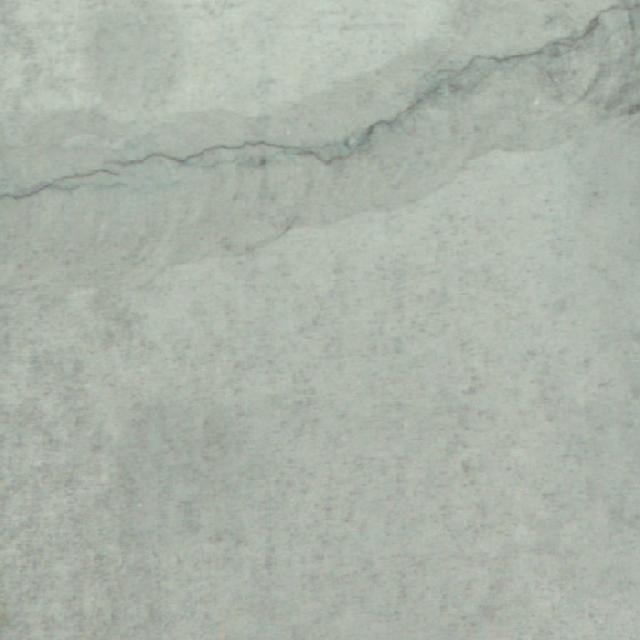Network: (0, 0, 640, 205)
Rippled: (0, 219, 640, 640)
